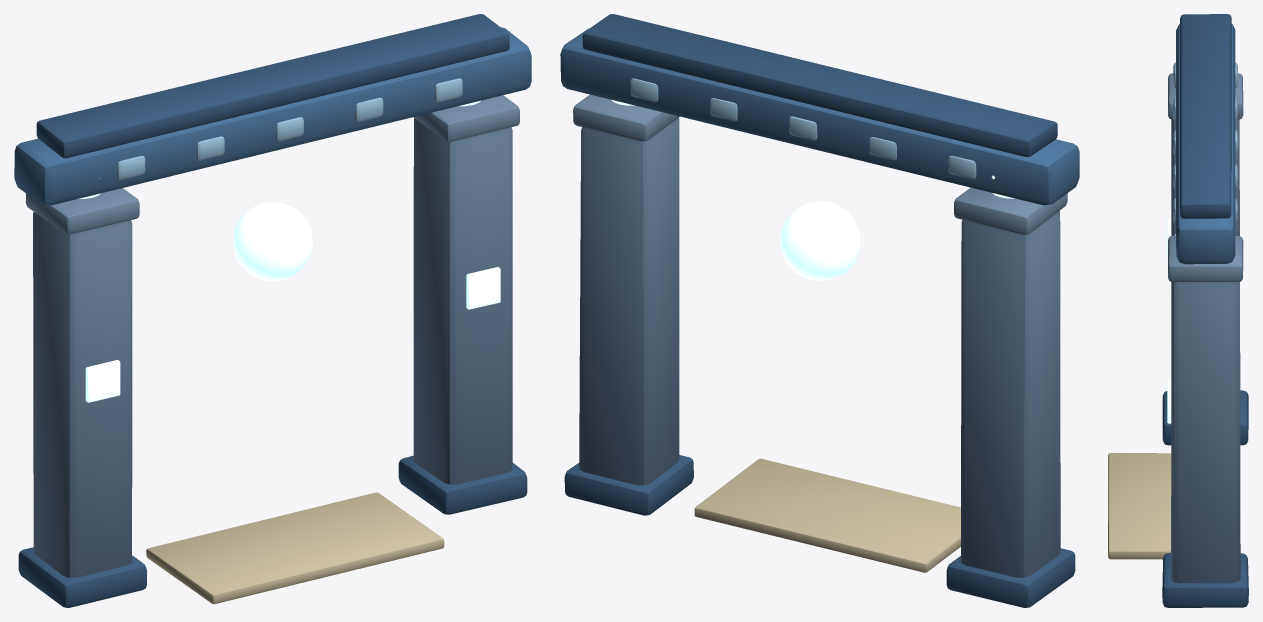
The picture shows the model from 3 angles, left to right: view 1: azimuth 30°, elevation 25°; view 2: azimuth 150°, elevation 25°; view 3: azimuth 270°, elevation 25°; orthographic projection. The views are drawn at different scales.
Visible parts, largest first — view 1: gate_3c242afc; view 2: gate_3c242afc; view 3: gate_3c242afc.
Boxes of the visible parts, x1,y1,x2,y2 form: gate_3c242afc: (14,14,531,607); gate_3c242afc: (560,14,1079,607); gate_3c242afc: (1108,14,1248,607).
Bounding box in the file's own units: 5.09 × 4.55 × 1.44.
